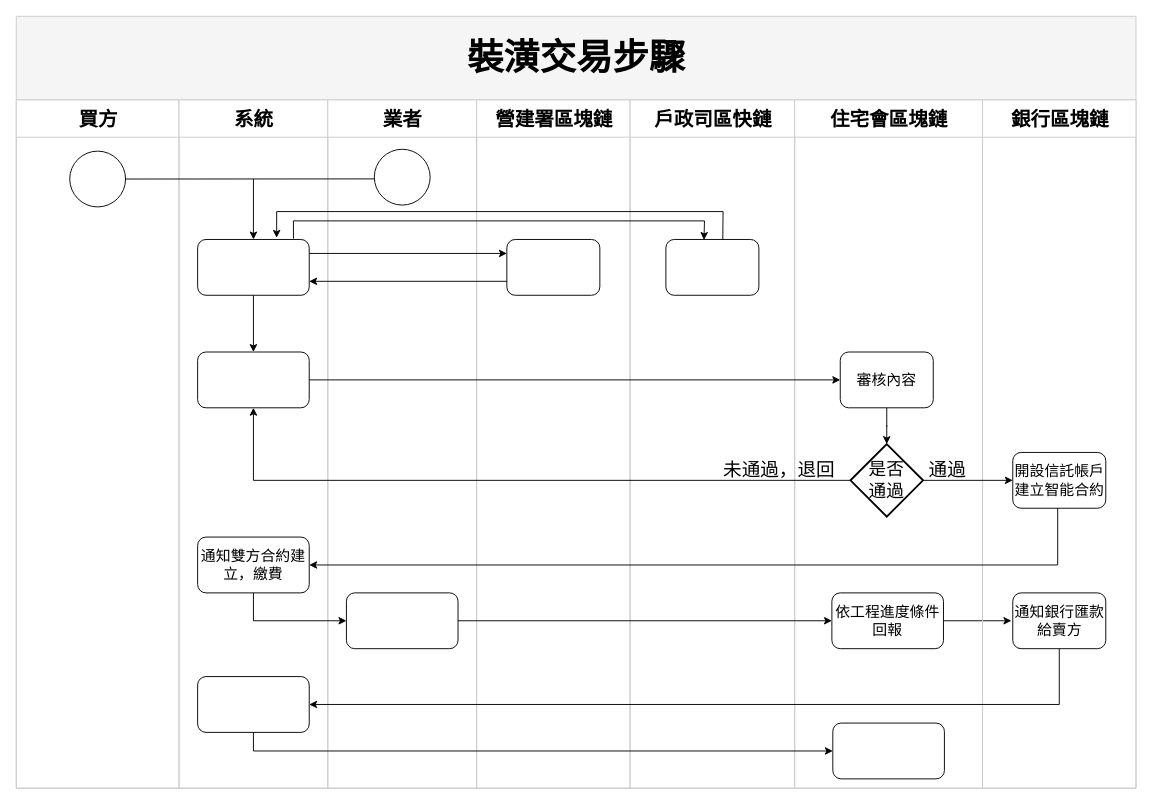
This 1152x804 diagram has some shape labels left out. Here are the shapes that lost their labels. From the top down, the centre of each, then its label:
[253,267]: 進入系統，查詢對方身分
[553,267]: 回傳登記資料
[712,267]: 回傳身份資料
[253,379]: 雙方準備存摺、合約書、估價單等相關文件
[401,620]: 開工
[253,704]: 工程結束
[888,750]: 回報住宅會備查
